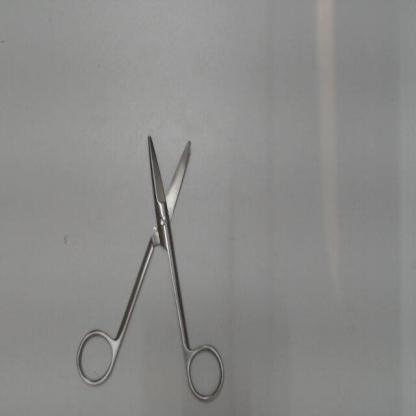Curved Mayo Scissors: (74, 124, 228, 408)
